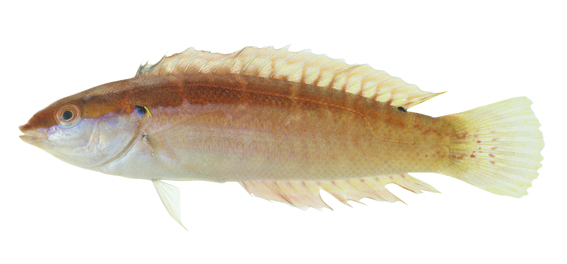fish: (18, 44, 544, 231)
